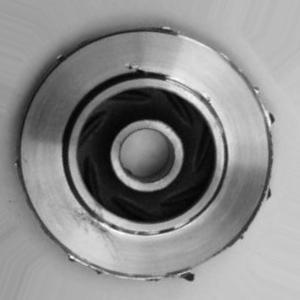casting_with_burr: (12, 24, 278, 286)
crack: (122, 61, 170, 86)
scratch: (185, 82, 225, 121)
stain: (66, 187, 132, 255)
